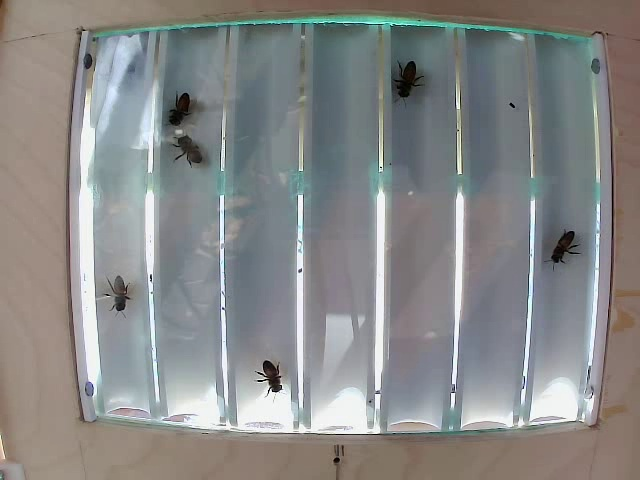bee: (165, 90, 206, 135), (395, 62, 430, 106), (556, 224, 586, 271), (265, 361, 297, 397), (169, 135, 211, 162), (99, 285, 134, 312)
